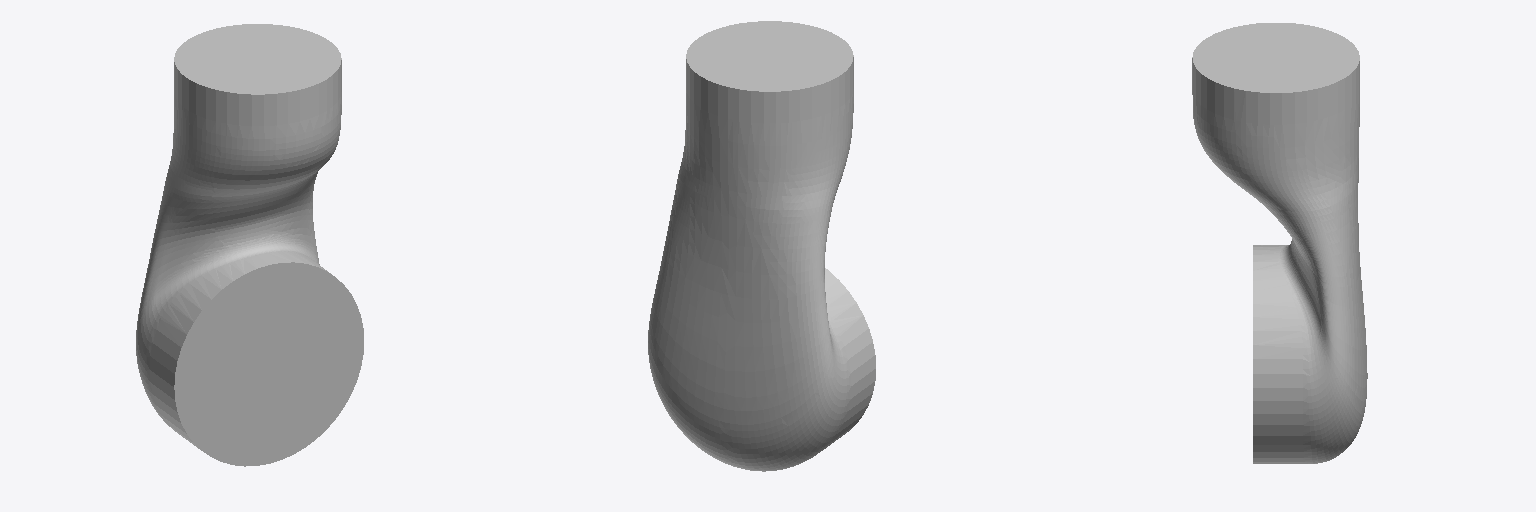
File: forearm_mico.obj
The picture shows the model from 3 angles: view 1: azimuth 30°, elevation 25°; view 2: azimuth 150°, elevation 25°; view 3: azimuth 270°, elevation 25°; orthographic projection.
Bounding box in the file's own units: 0.0825 × 0.1644 × 0.0658.